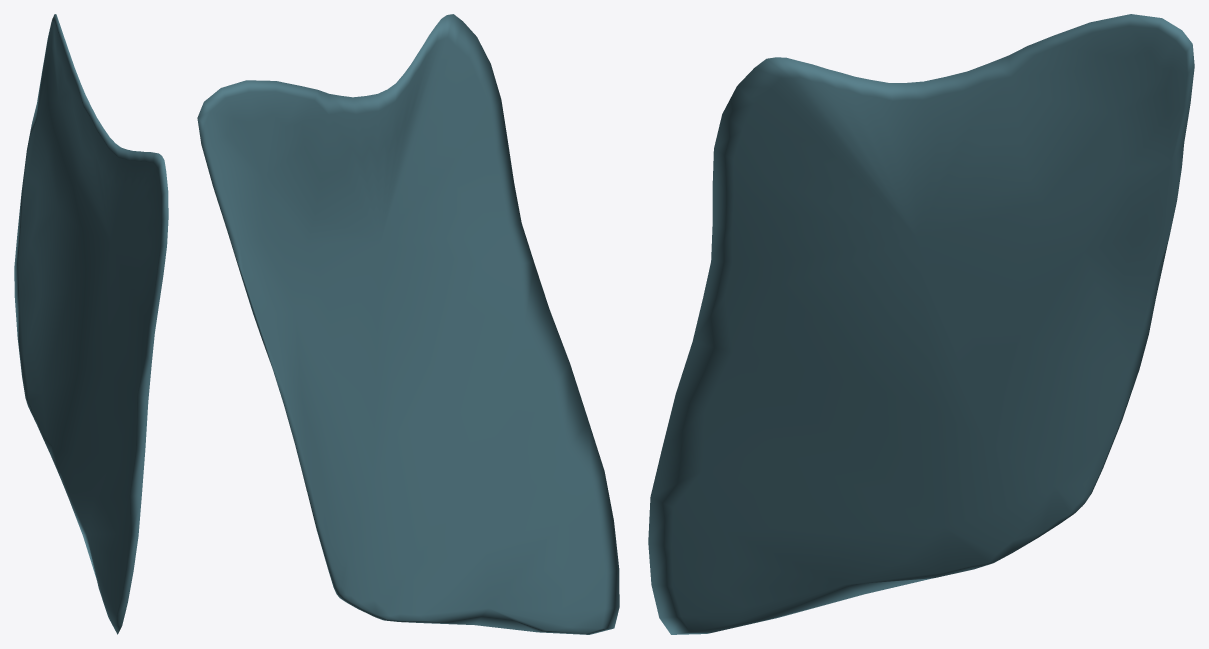
Rendered from Masseter_on_ramus_of_mandible.l_Generated_Mesh_From_X3D.4518.glb.
3 renders of one model, left to right at view 1: azimuth 30°, elevation 25°; view 2: azimuth 150°, elevation 25°; view 3: azimuth 270°, elevation 25°, orthographic. The views are drawn at different scales.
Parts seen in each view (by area): view 1: Masseter_on_ramus_of_mandible.l_Generated_Mesh_From_X3D.4518; view 2: Masseter_on_ramus_of_mandible.l_Generated_Mesh_From_X3D.4518; view 3: Masseter_on_ramus_of_mandible.l_Generated_Mesh_From_X3D.4518.
Part boxes in pixels (box(x1,y1,x2,y2)): Masseter_on_ramus_of_mandible.l_Generated_Mesh_From_X3D.4518: box(14, 14, 168, 634); Masseter_on_ramus_of_mandible.l_Generated_Mesh_From_X3D.4518: box(197, 14, 619, 634); Masseter_on_ramus_of_mandible.l_Generated_Mesh_From_X3D.4518: box(648, 14, 1194, 634).
Size of the model in its own units: 0.0122 by 0.0491 by 0.0351.
